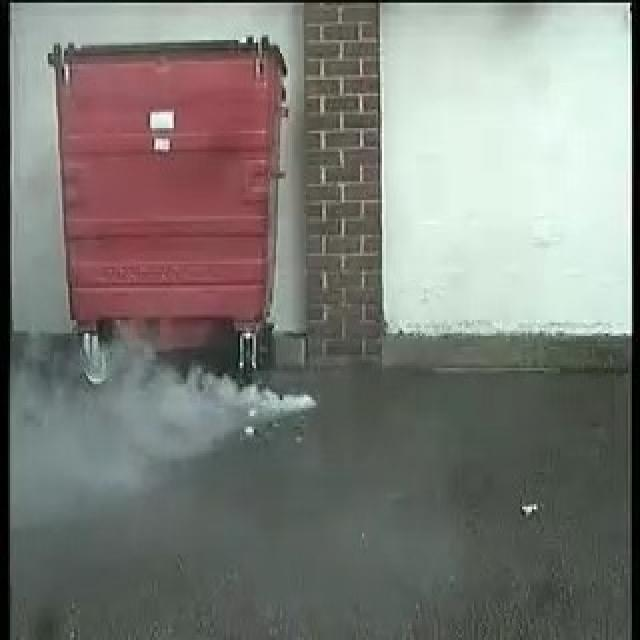smoke: (38, 370, 314, 482)
